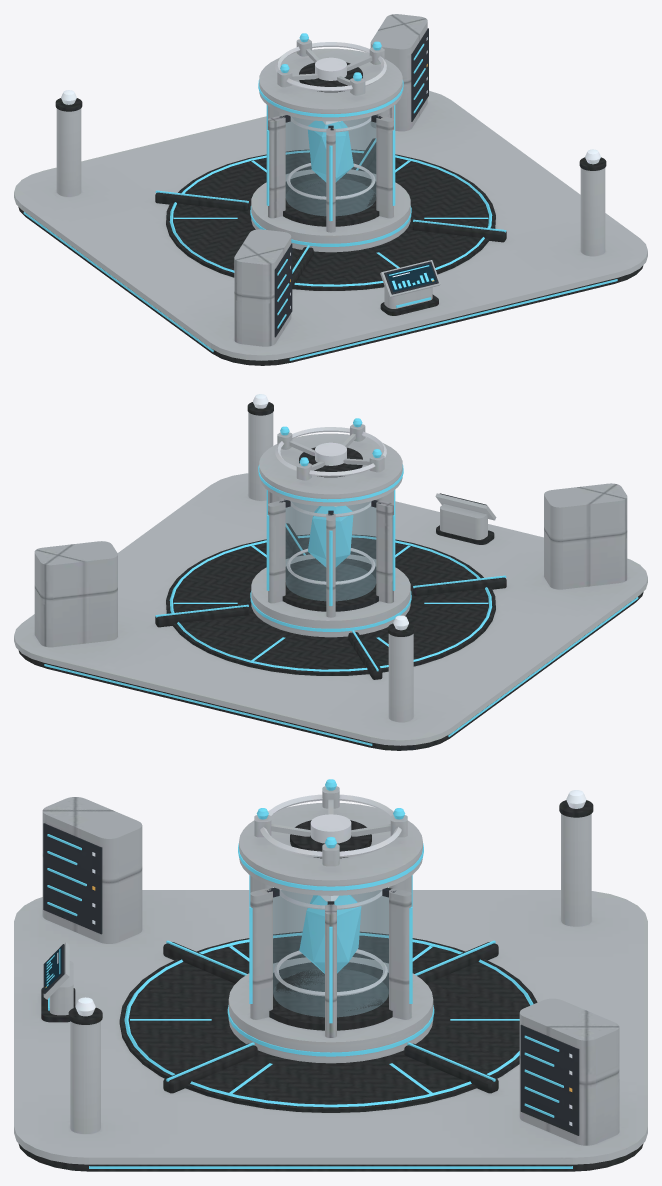
File: mining_efficiency_distributor.glb
3 renders of one model, top to bottom at view 1: azimuth 30°, elevation 25°; view 2: azimuth 150°, elevation 25°; view 3: azimuth 270°, elevation 25°, orthographic. The views are drawn at different scales.
Parts seen in each view (by area): view 1: te_mining_efficiency_distributor, move_sensor; view 2: te_mining_efficiency_distributor, move_sensor; view 3: te_mining_efficiency_distributor, move_sensor.
Boxes of the visible parts, left/top/right/bottom form: te_mining_efficiency_distributor: left=14, top=14, right=647, bottom=365; move_sensor: left=275, top=33, right=386, bottom=95; te_mining_efficiency_distributor: left=14, top=394, right=647, bottom=750; move_sensor: left=275, top=418, right=386, bottom=480; te_mining_efficiency_distributor: left=14, top=790, right=647, bottom=1171; move_sensor: left=254, top=779, right=407, bottom=866.
Bounding box in the file's own units: 1.86 × 0.748 × 1.86.
Materials: 2 (1 with a texture image).
